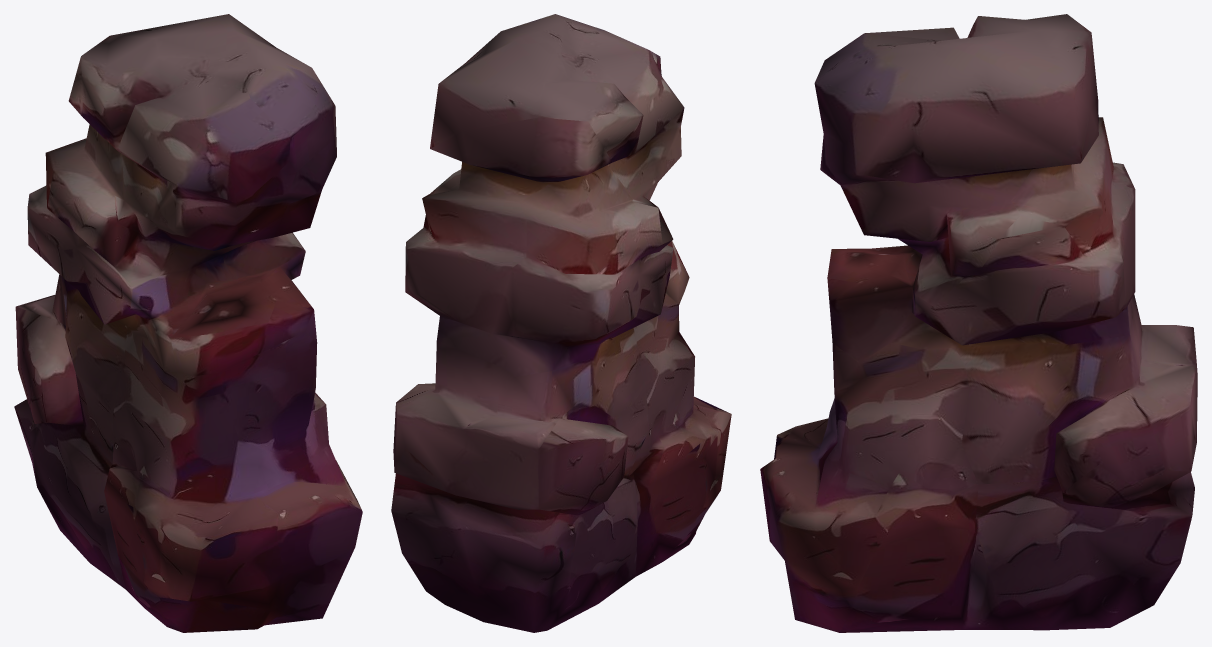
Rendered from cave-slab.glb.
3 renders of one model, left to right at view 1: azimuth 30°, elevation 25°; view 2: azimuth 150°, elevation 25°; view 3: azimuth 270°, elevation 25°, orthographic. The views are drawn at different scales.
Parts seen in each view (by area): view 1: tripo_node_0cd493c7-381b-481a-a5d3-832fbe854310; view 2: tripo_node_0cd493c7-381b-481a-a5d3-832fbe854310; view 3: tripo_node_0cd493c7-381b-481a-a5d3-832fbe854310.
Boxes of the visible parts, x1,y1,x2,y2 form: tripo_node_0cd493c7-381b-481a-a5d3-832fbe854310: (14, 14, 362, 632); tripo_node_0cd493c7-381b-481a-a5d3-832fbe854310: (391, 14, 731, 632); tripo_node_0cd493c7-381b-481a-a5d3-832fbe854310: (760, 14, 1197, 632).
Size of the model in its own units: 0.4281 by 0.9987 by 0.691.
Materials: 1 (1 with a texture image).
